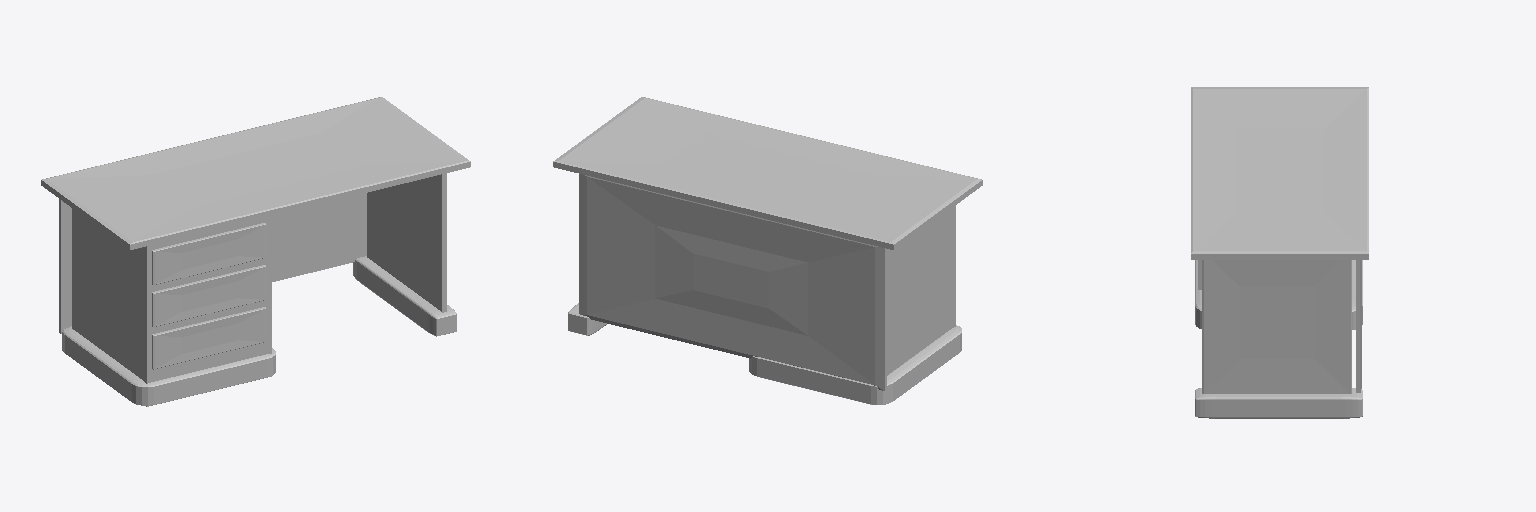
File: desk2.obj
The picture shows the model from 3 angles: view 1: azimuth 30°, elevation 25°; view 2: azimuth 150°, elevation 25°; view 3: azimuth 270°, elevation 25°; orthographic projection.
Bounding box in the file's own units: 7.58 × 3.66 × 3.42.